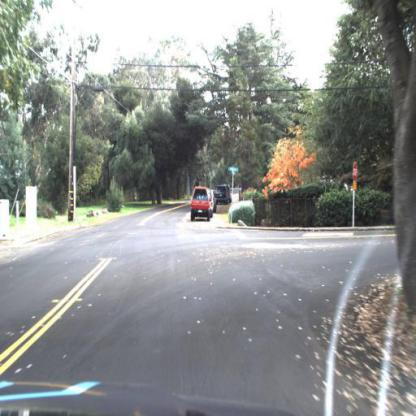car: (190, 186, 213, 225), (212, 184, 234, 207)
